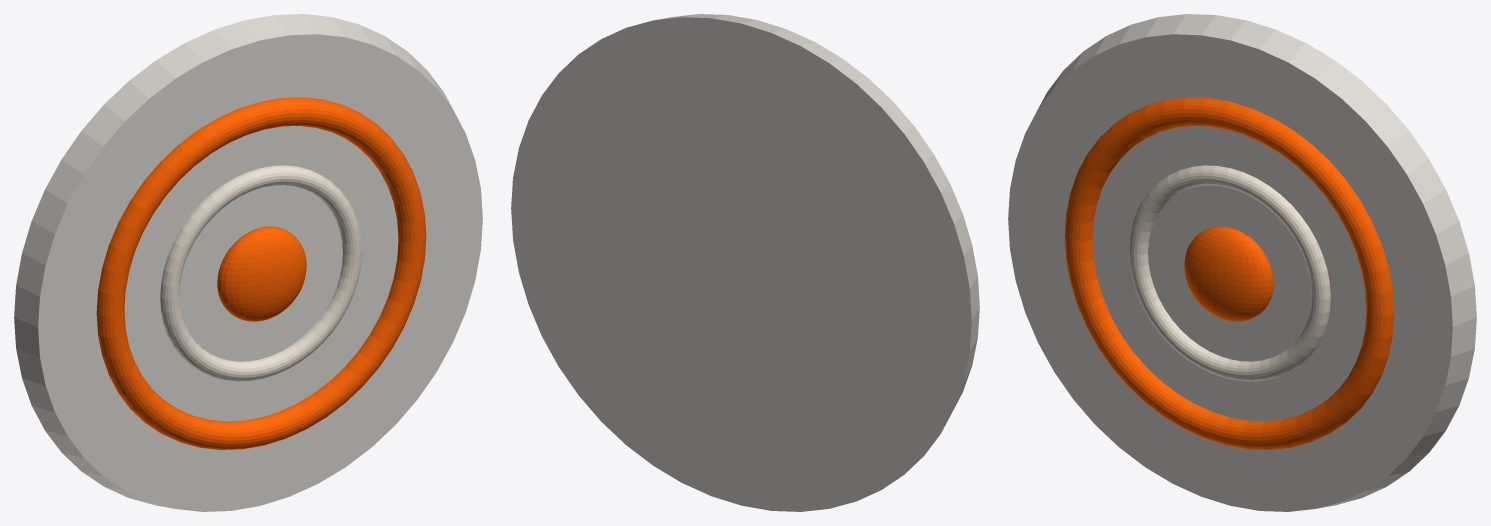
The model's file is research-target.glb.
3 renders of one model, left to right at view 1: azimuth 30°, elevation 25°; view 2: azimuth 150°, elevation 25°; view 3: azimuth 330°, elevation 25°, orthographic.
Visible parts, largest first — view 1: target_chassis, target_orange_ring, target_inner_ring, target_bullseye; view 2: target_chassis; view 3: target_chassis, target_orange_ring, target_inner_ring, target_bullseye.
Part boxes in pixels (x1=…): target_chassis: x1=14, y1=14, x2=482, y2=511; target_orange_ring: x1=96, y1=97, x2=426, y2=449; target_inner_ring: x1=160, y1=165, x2=361, y2=381; target_bullseye: x1=217, y1=226, x2=306, y2=321; target_chassis: x1=511, y1=14, x2=979, y2=511; target_chassis: x1=1008, y1=14, x2=1476, y2=511; target_orange_ring: x1=1064, y1=97, x2=1394, y2=449; target_inner_ring: x1=1129, y1=165, x2=1330, y2=381; target_bullseye: x1=1184, y1=226, x2=1273, y2=321.
Size of the model in its own units: 2.32 by 2.32 by 0.249.
